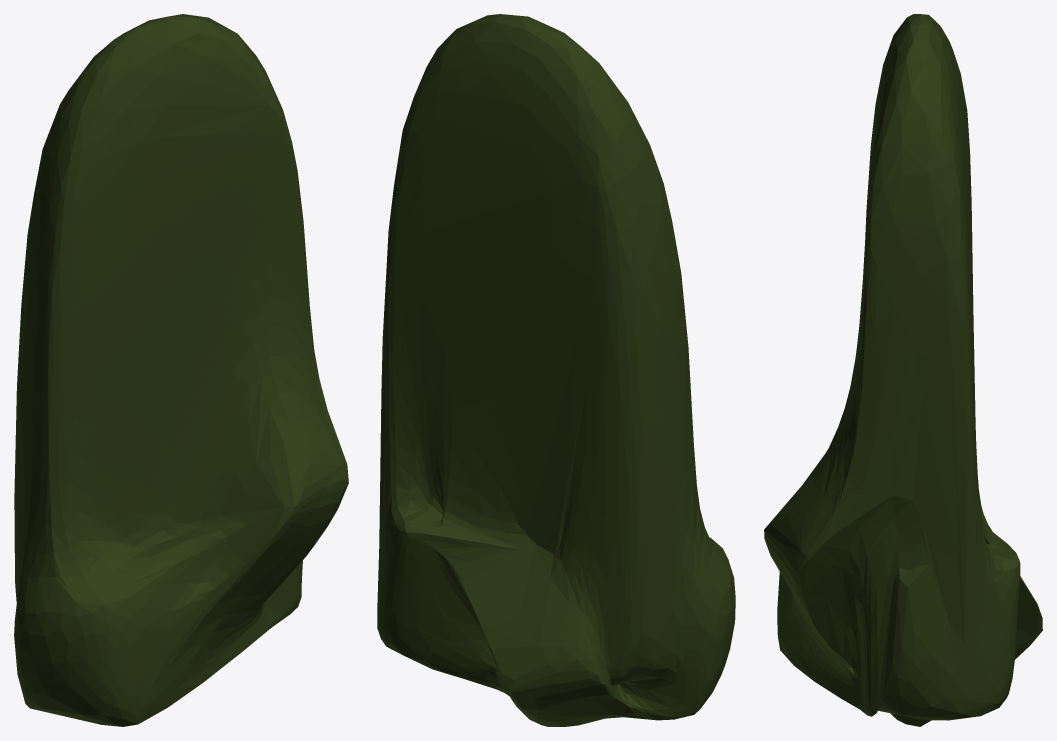
3 renders of one model, left to right at view 1: azimuth 30°, elevation 25°; view 2: azimuth 150°, elevation 25°; view 3: azimuth 270°, elevation 25°, orthographic. The views are drawn at different scales.
Visible parts, largest first — view 1: 944_Cube.3817; view 2: 944_Cube.3817; view 3: 944_Cube.3817.
Boxes of the visible parts, bbox=[...] form: 944_Cube.3817: bbox=[14, 14, 348, 726]; 944_Cube.3817: bbox=[377, 14, 735, 726]; 944_Cube.3817: bbox=[764, 14, 1042, 726].
Bounding box in the file's own units: 5.9 × 12.69 × 4.48.
